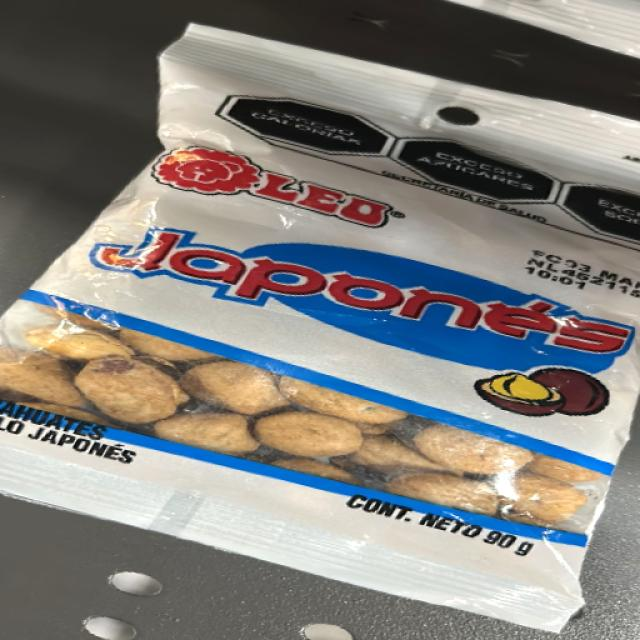leoCacahuates: (51, 104, 622, 580)
